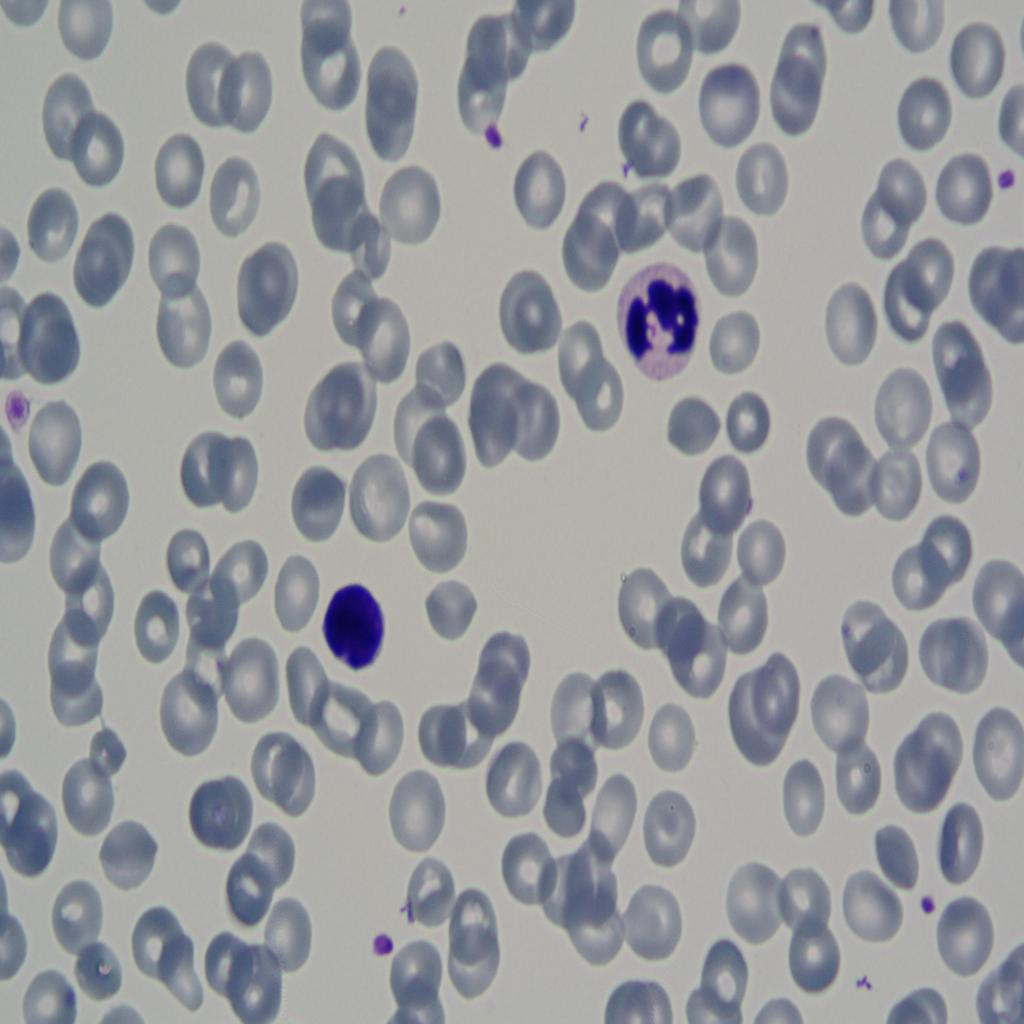Myeoblast: (322, 558, 390, 678)
Neutrofil: (609, 258, 709, 394)
Platelet: (0, 371, 42, 442), (483, 109, 513, 183), (366, 921, 398, 975), (998, 158, 1023, 204), (922, 888, 942, 935)
